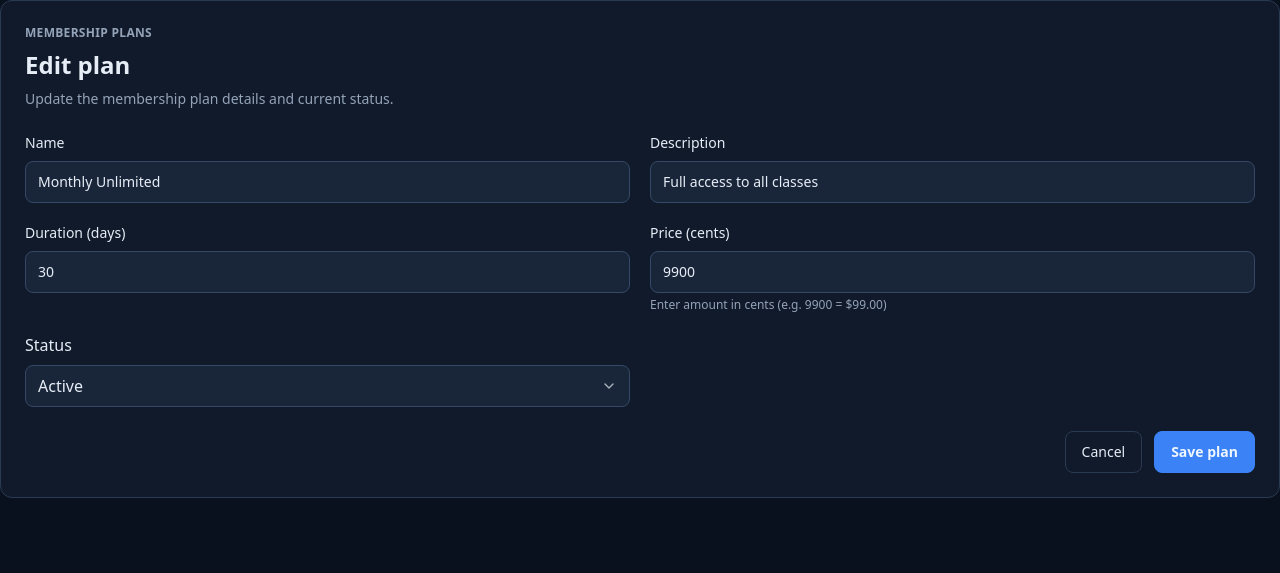
Test: EditMembershipPlanForm › renders action-level failure message
The width and height of the screenshot is (1280, 573).
Click the button "Save plan": (1205,452) [1154,431,1255,473]
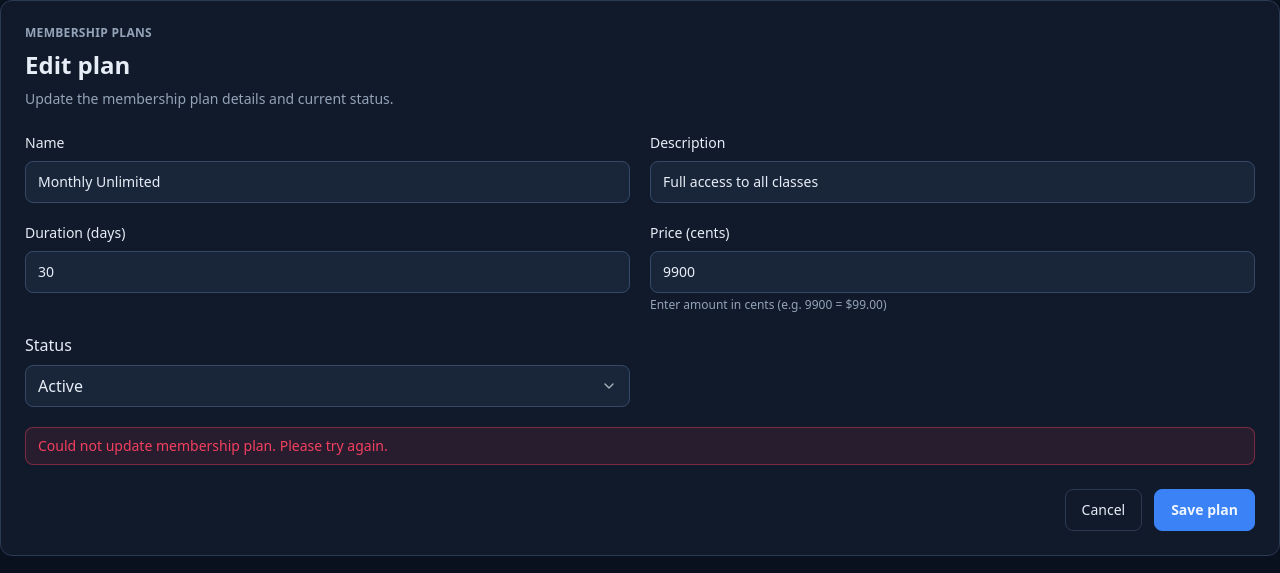
Result: the message reads "Could not update membership plan. Please try again." at [38,436,388,455]
